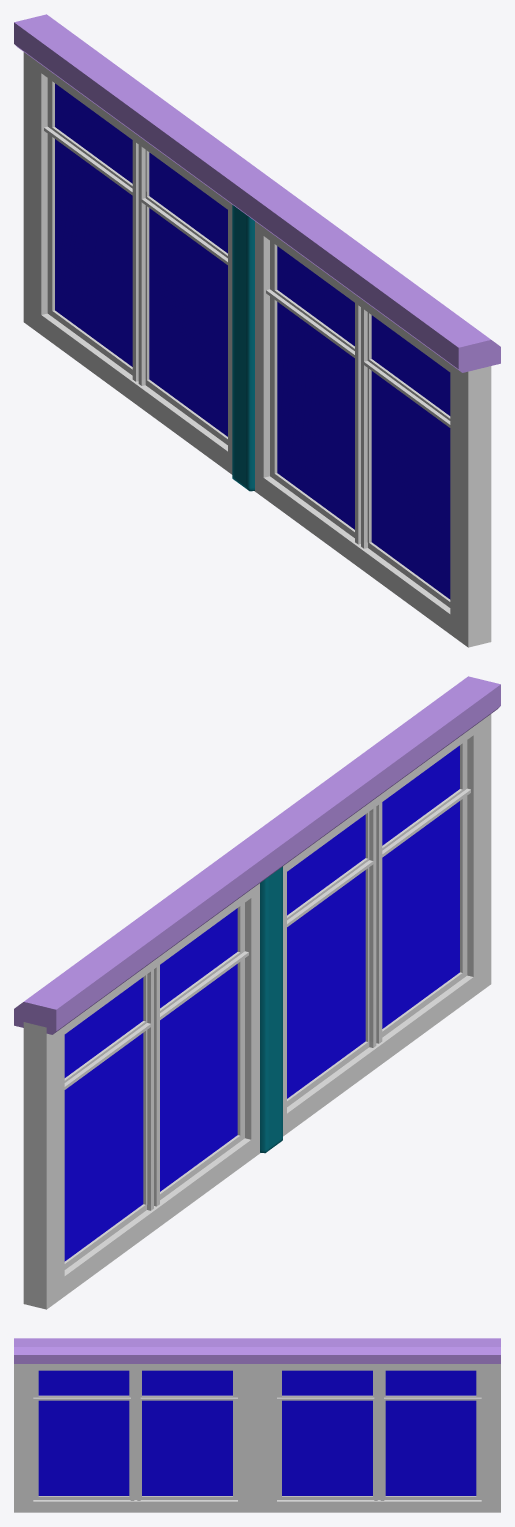
Rendered from WindowType2.FBX.
3 views of the same model, one above another, from view 1: azimuth 30°, elevation 25°; view 2: azimuth 150°, elevation 25°; view 3: azimuth 270°, elevation 25° (orthographic). The views are drawn at different scales.
Visible parts, largest first — view 1: Glass001, Glass, Roof ornament, Window004, Window2, Window003, Window1, Wall.detail; view 2: Glass, Glass001, Roof ornament, Window2, Window004, Window1, Window003, Wall.detail; view 3: Glass, Glass001, Roof ornament, Window2, Window004, Window1, Window003.
Part boxes in pixels (x1,y1,x2,y2): Glass001: [277, 246, 450, 599]; Glass: [55, 83, 227, 436]; Roof ornament: [14, 14, 500, 372]; Window004: [254, 221, 491, 647]; Window2: [23, 52, 232, 474]; Window003: [266, 241, 484, 638]; Window1: [44, 78, 227, 444]; Wall.detail: [232, 205, 254, 491]; Glass: [64, 908, 237, 1261]; Glass001: [287, 745, 459, 1098]; Roof ornament: [14, 676, 500, 1034]; Window2: [23, 883, 260, 1309]; Window004: [283, 714, 491, 1136]; Window1: [30, 903, 248, 1300]; Window003: [287, 740, 470, 1106]; Wall.detail: [260, 866, 282, 1153]; Glass: [282, 1370, 476, 1495]; Glass001: [38, 1370, 232, 1495]; Roof ornament: [14, 1338, 500, 1363]; Window2: [257, 1364, 500, 1512]; Window004: [14, 1364, 257, 1512]; Window1: [277, 1369, 481, 1500]; Window003: [33, 1369, 237, 1500].
Size of the model in its own units: 43.31 by 295 by 787.
